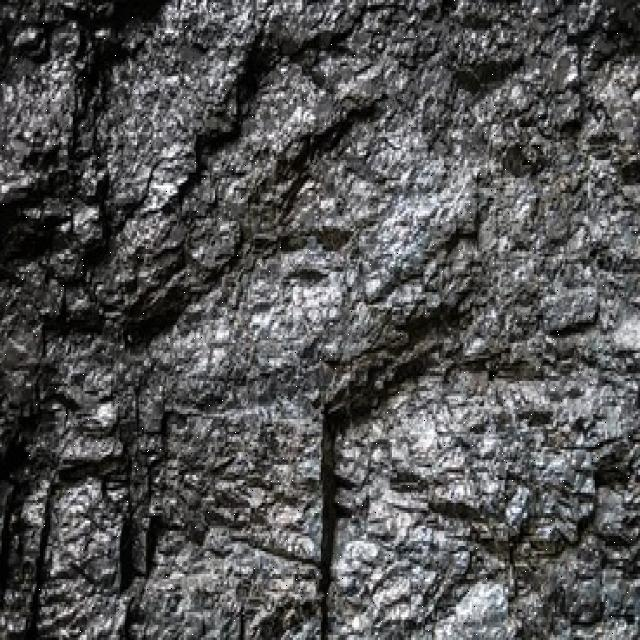Sedimentary: (1, 2, 636, 638)
